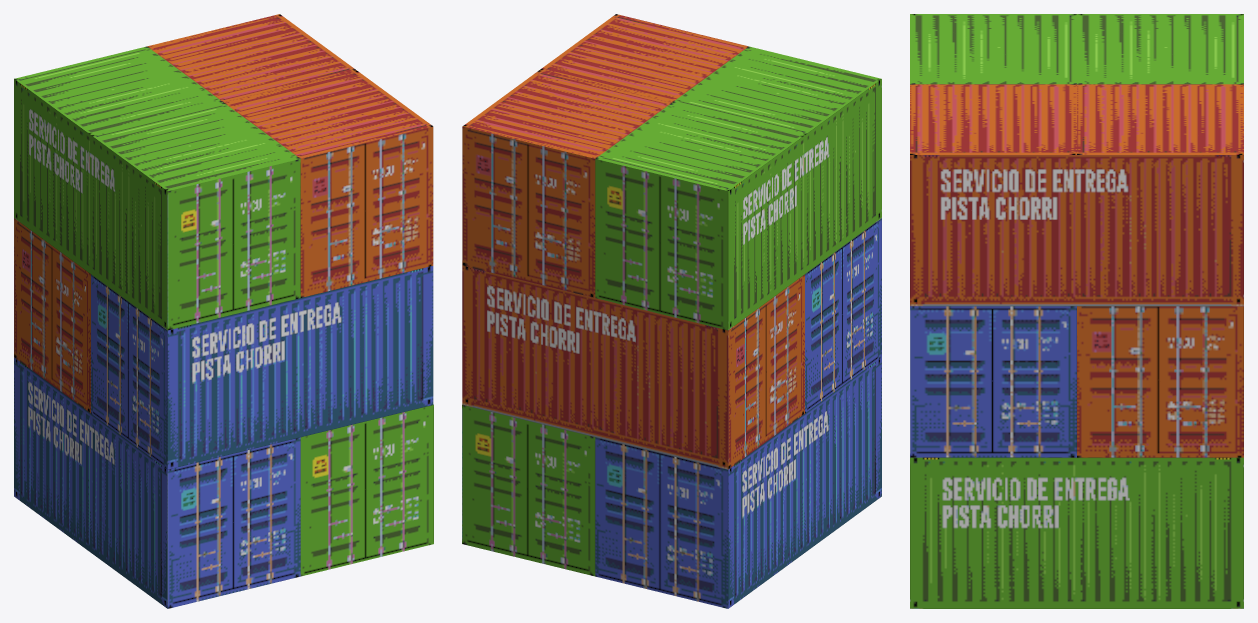
Rendered from Container-4x6x4.fbx.
The picture shows the model from 3 angles, left to right: view 1: azimuth 30°, elevation 25°; view 2: azimuth 150°, elevation 25°; view 3: azimuth 270°, elevation 25°; orthographic projection. The views are drawn at different scales.
Visible parts, largest first — view 1: Container-4x6x4; view 2: Container-4x6x4; view 3: Container-4x6x4.
Boxes of the visible parts, bbox=[...] form: Container-4x6x4: bbox=[14, 14, 433, 608]; Container-4x6x4: bbox=[462, 14, 881, 608]; Container-4x6x4: bbox=[910, 14, 1243, 608].
Bounding box in the file's own units: 4 × 6 × 4.
